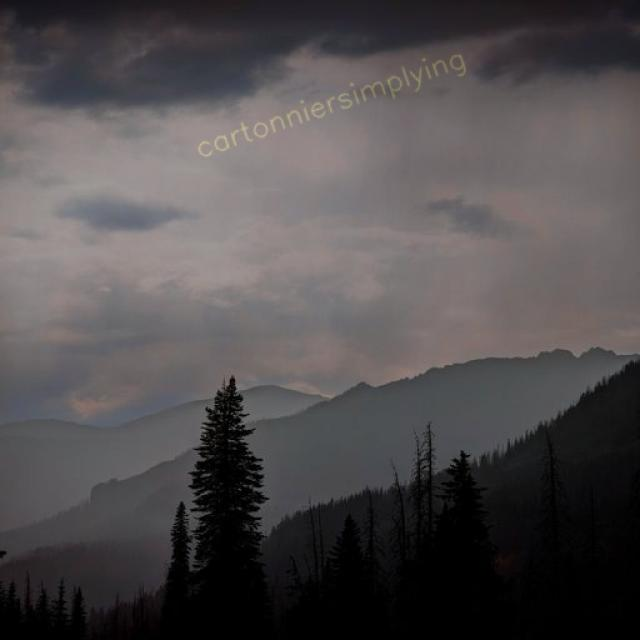watermark: (191, 42, 467, 163)
